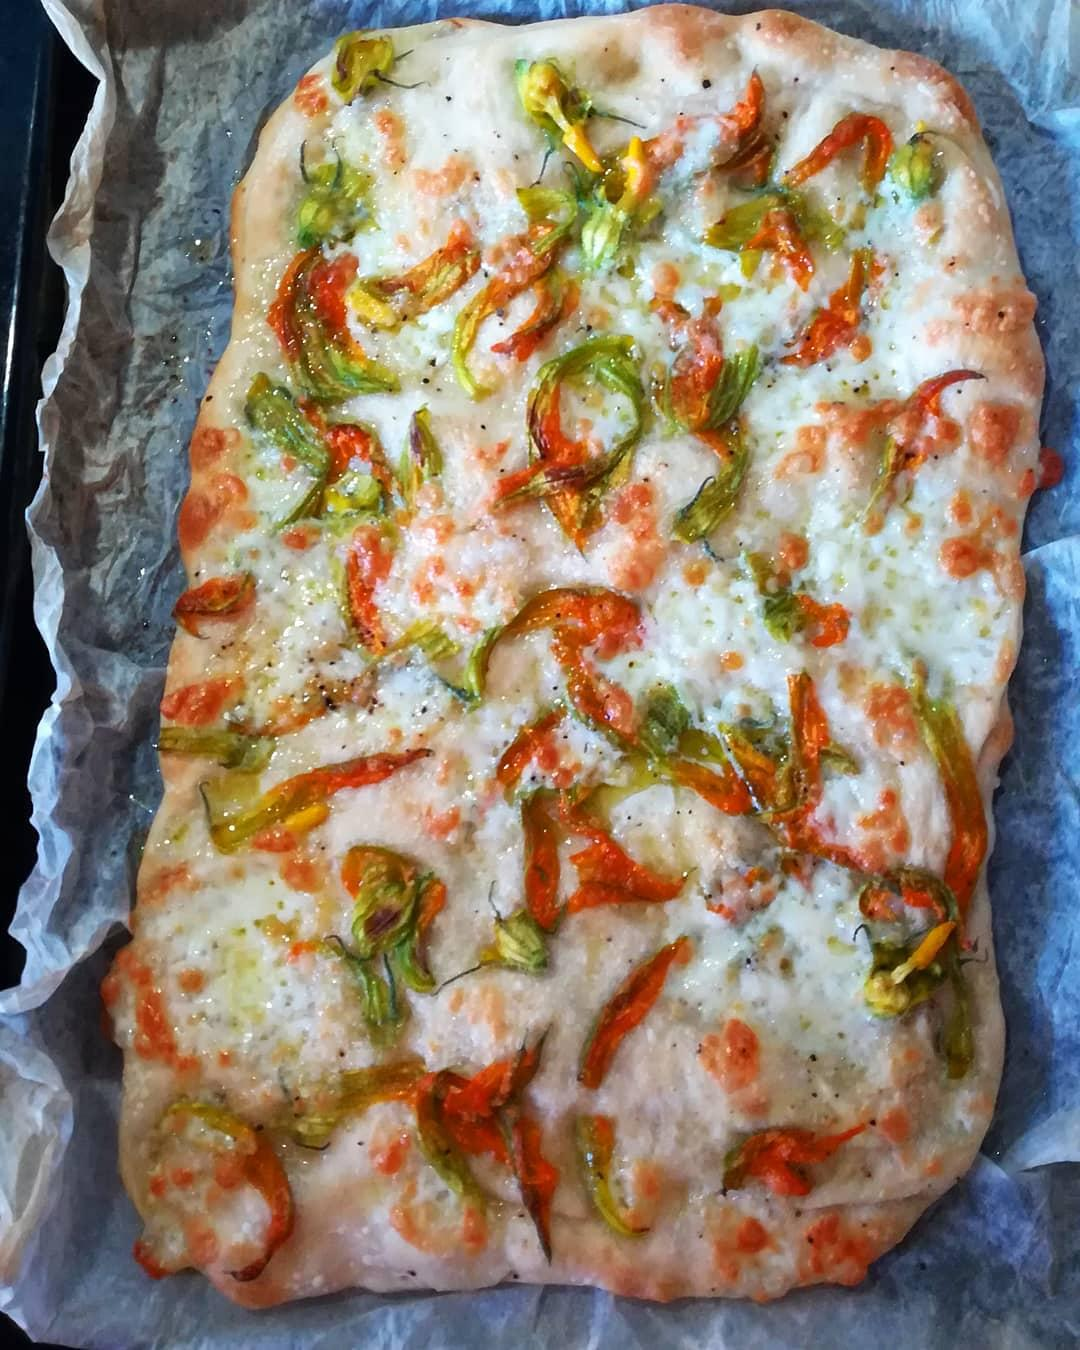Cheese: (666, 533, 930, 665), (411, 391, 516, 616), (401, 61, 533, 222), (701, 900, 860, 1032), (181, 898, 323, 1041), (699, 1044, 927, 1109), (756, 388, 856, 516)
Peppers: (425, 1056, 554, 1250), (910, 681, 981, 985), (304, 424, 389, 657), (530, 350, 639, 527), (666, 315, 749, 542), (512, 586, 640, 733), (322, 858, 441, 1014), (216, 749, 414, 842), (530, 793, 662, 922), (570, 946, 673, 1089), (269, 251, 367, 397), (214, 1104, 293, 1279), (769, 677, 836, 874), (875, 366, 976, 477), (727, 1120, 856, 1198), (788, 253, 862, 366), (713, 71, 778, 181), (796, 109, 887, 181)
Pizza: (115, 20, 1049, 1320)
